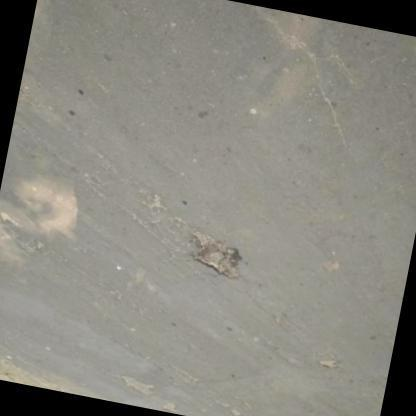pothole: (192, 228, 245, 283)
